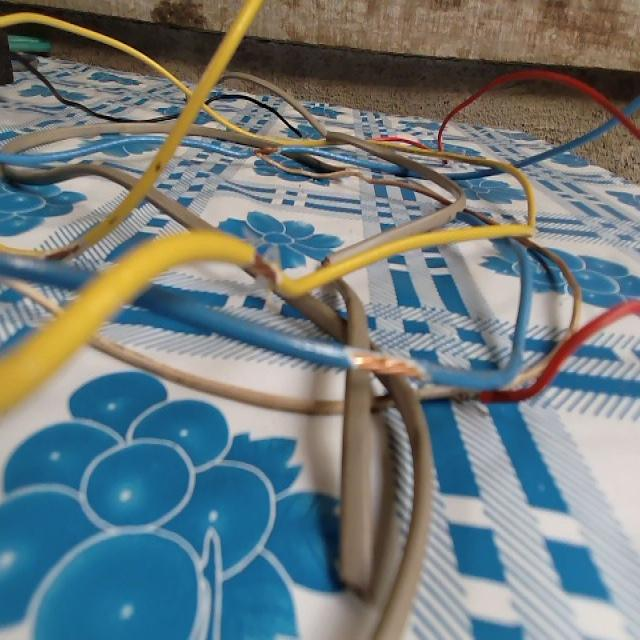-: (342, 342, 432, 387), (246, 250, 283, 298), (42, 237, 85, 267), (251, 140, 281, 156)
